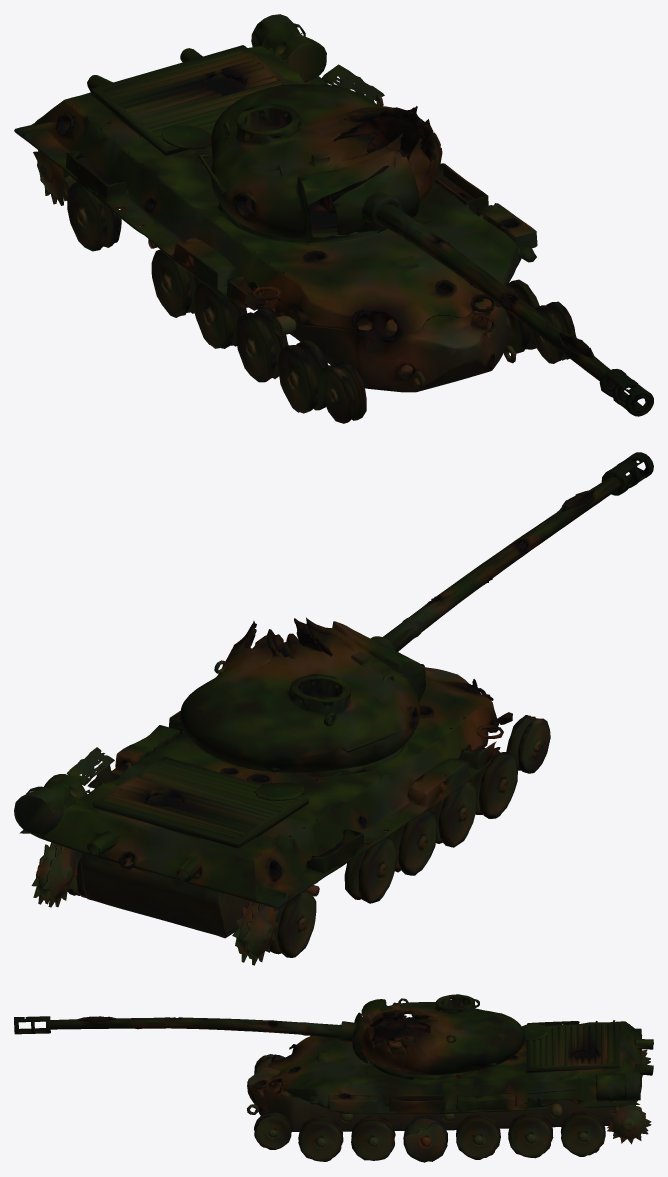
Rendered from govnotank.glb.
3 renders of one model, top to bottom at view 1: azimuth 30°, elevation 25°; view 2: azimuth 150°, elevation 25°; view 3: azimuth 270°, elevation 25°, orthographic. The views are drawn at different scales.
Parts seen in each view (by area): view 1: Hull_IS3, Turret_IS3, Gun_IS3, wheel0_011, wheel0_010, wheel0_007, wheel0_012, wheel0_009, wheel0_008, wheel0_005, wheel0_006, wheel_spr_002 (+1 smaller); view 2: Hull_IS3, Turret_IS3, Gun_IS3, wheel0_008, wheel0_011, wheel0_007, wheel0_009, wheel_spr_001, wheel0_010, wheel_spr_002, wheel0_012, Cupola_hatch; view 3: Hull_IS3, Turret_IS3, Gun_IS3, wheel0_004, wheel0_005, wheel1_001, wheel0_002, wheel0_001, wheel0_003, wheel_spr_001, wheel0_006, Cupola_hatch.
Boxes of the visible parts, box(x1,y1,x2,y2) form: Hull_IS3: box(14, 14, 537, 392); Turret_IS3: box(198, 84, 442, 243); Gun_IS3: box(332, 156, 653, 416); wheel0_011: box(278, 340, 328, 413); wheel0_010: box(235, 308, 288, 382); wheel0_007: box(67, 182, 121, 251); wheel0_012: box(321, 361, 366, 423); wheel0_009: box(194, 282, 246, 348); wheel0_008: box(151, 249, 201, 317); wheel0_005: box(506, 279, 539, 353); wheel0_006: box(532, 301, 576, 363); wheel_spr_002: box(33, 150, 76, 205); Hull_IS3: box(14, 664, 512, 938); Turret_IS3: box(178, 617, 425, 772); Gun_IS3: box(371, 452, 653, 651); wheel0_008: box(344, 838, 397, 903); wheel0_011: box(468, 751, 517, 818); wheel0_007: box(270, 891, 316, 957); wheel0_009: box(387, 810, 437, 875); wheel_spr_001: box(31, 842, 77, 907); wheel0_010: box(429, 781, 477, 847); wheel_spr_002: box(232, 901, 279, 965); wheel0_012: box(506, 715, 550, 773); Cupola_hatch: box(255, 782, 304, 800); Hull_IS3: box(247, 1020, 653, 1131); Turret_IS3: box(360, 994, 524, 1074); Gun_IS3: box(14, 1012, 371, 1063); wheel0_004: box(351, 1116, 395, 1160); wheel0_005: box(298, 1116, 343, 1161); wheel1_001: box(403, 1116, 447, 1162); wheel0_002: box(508, 1113, 553, 1158); wheel0_001: box(560, 1111, 605, 1156); wheel0_003: box(456, 1114, 500, 1159); wheel_spr_001: box(607, 1105, 651, 1144); wheel0_006: box(254, 1112, 291, 1149); Cupola_hatch: box(522, 1023, 548, 1040).
Bounding box in the file's own units: 3.47 × 2.47 × 10.98.
